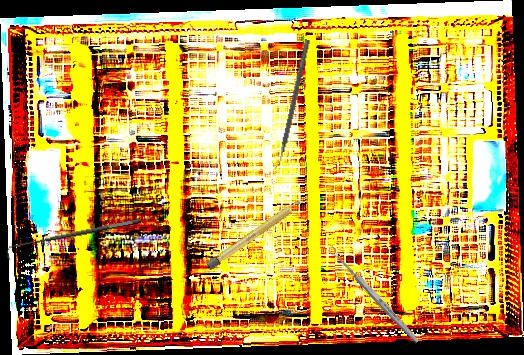Hook Surgical: (4, 216, 144, 261)
Scalpel Handle: (205, 195, 307, 272)
Spatula Surgical: (271, 37, 311, 172)
Surgical Spoon: (327, 245, 421, 345)
